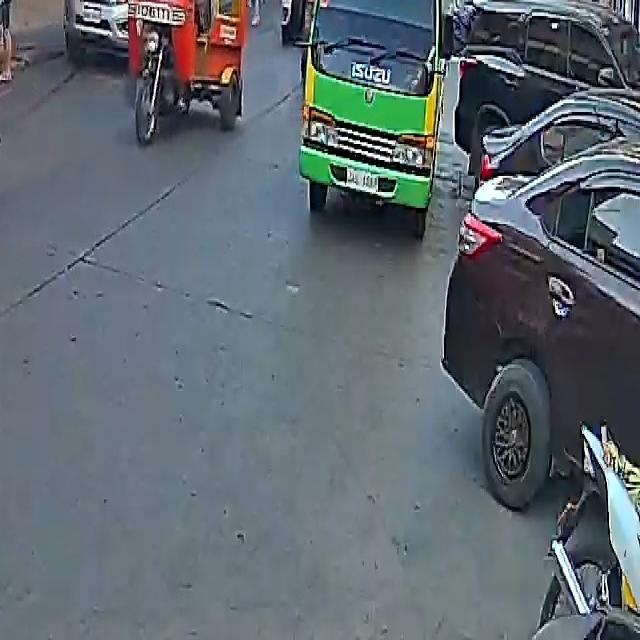car: (442, 39, 640, 537), (453, 0, 640, 176), (62, 0, 141, 62)
